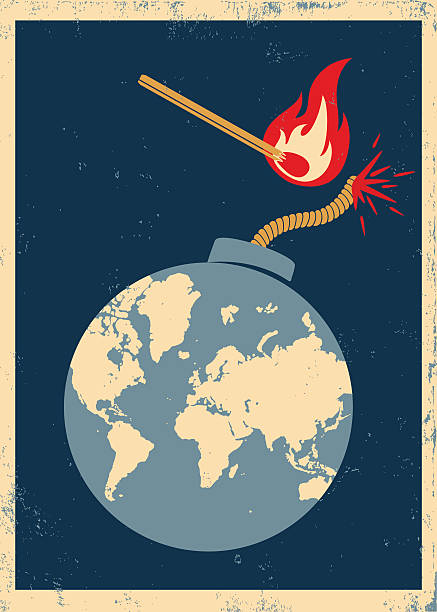terrorist: (176, 16, 415, 331)
